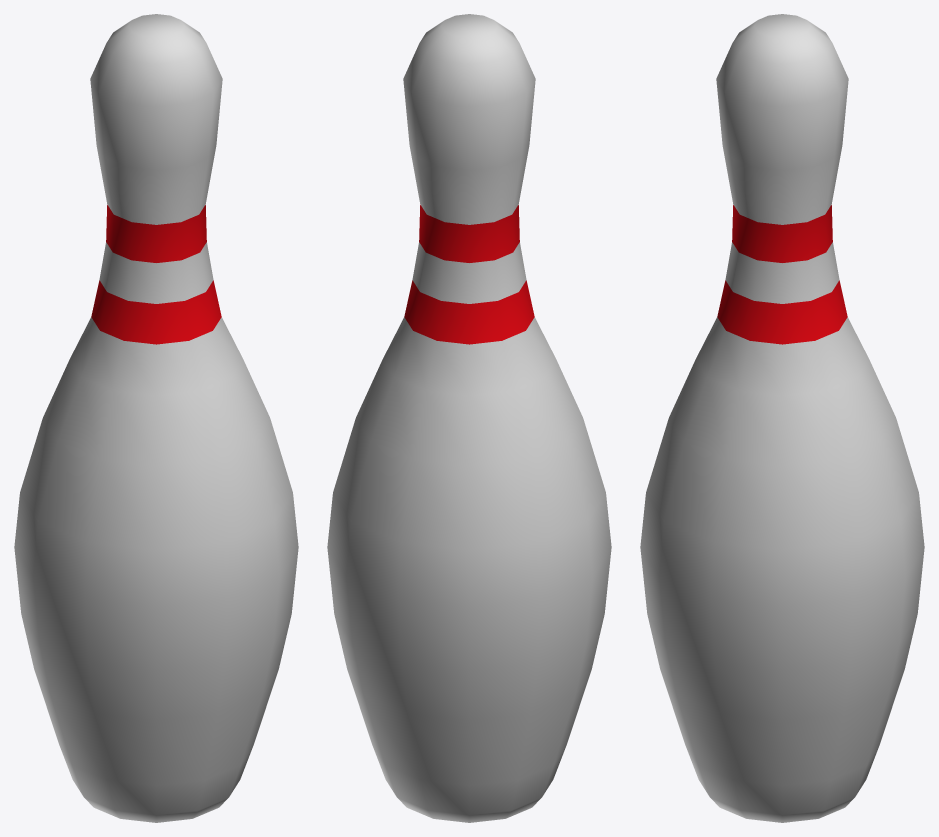
The model's file is BPin.fbx.
The picture shows the model from 3 angles, left to right: view 1: azimuth 30°, elevation 25°; view 2: azimuth 150°, elevation 25°; view 3: azimuth 270°, elevation 25°; orthographic projection.
Visible parts, largest first — view 1: Cylinder; view 2: Cylinder; view 3: Cylinder.
Boxes of the visible parts, <box> form: Cylinder: <box>14,14,298,822</box>; Cylinder: <box>327,14,611,822</box>; Cylinder: <box>640,14,924,822</box>.
Size of the model in its own units: 238 by 707 by 238.
